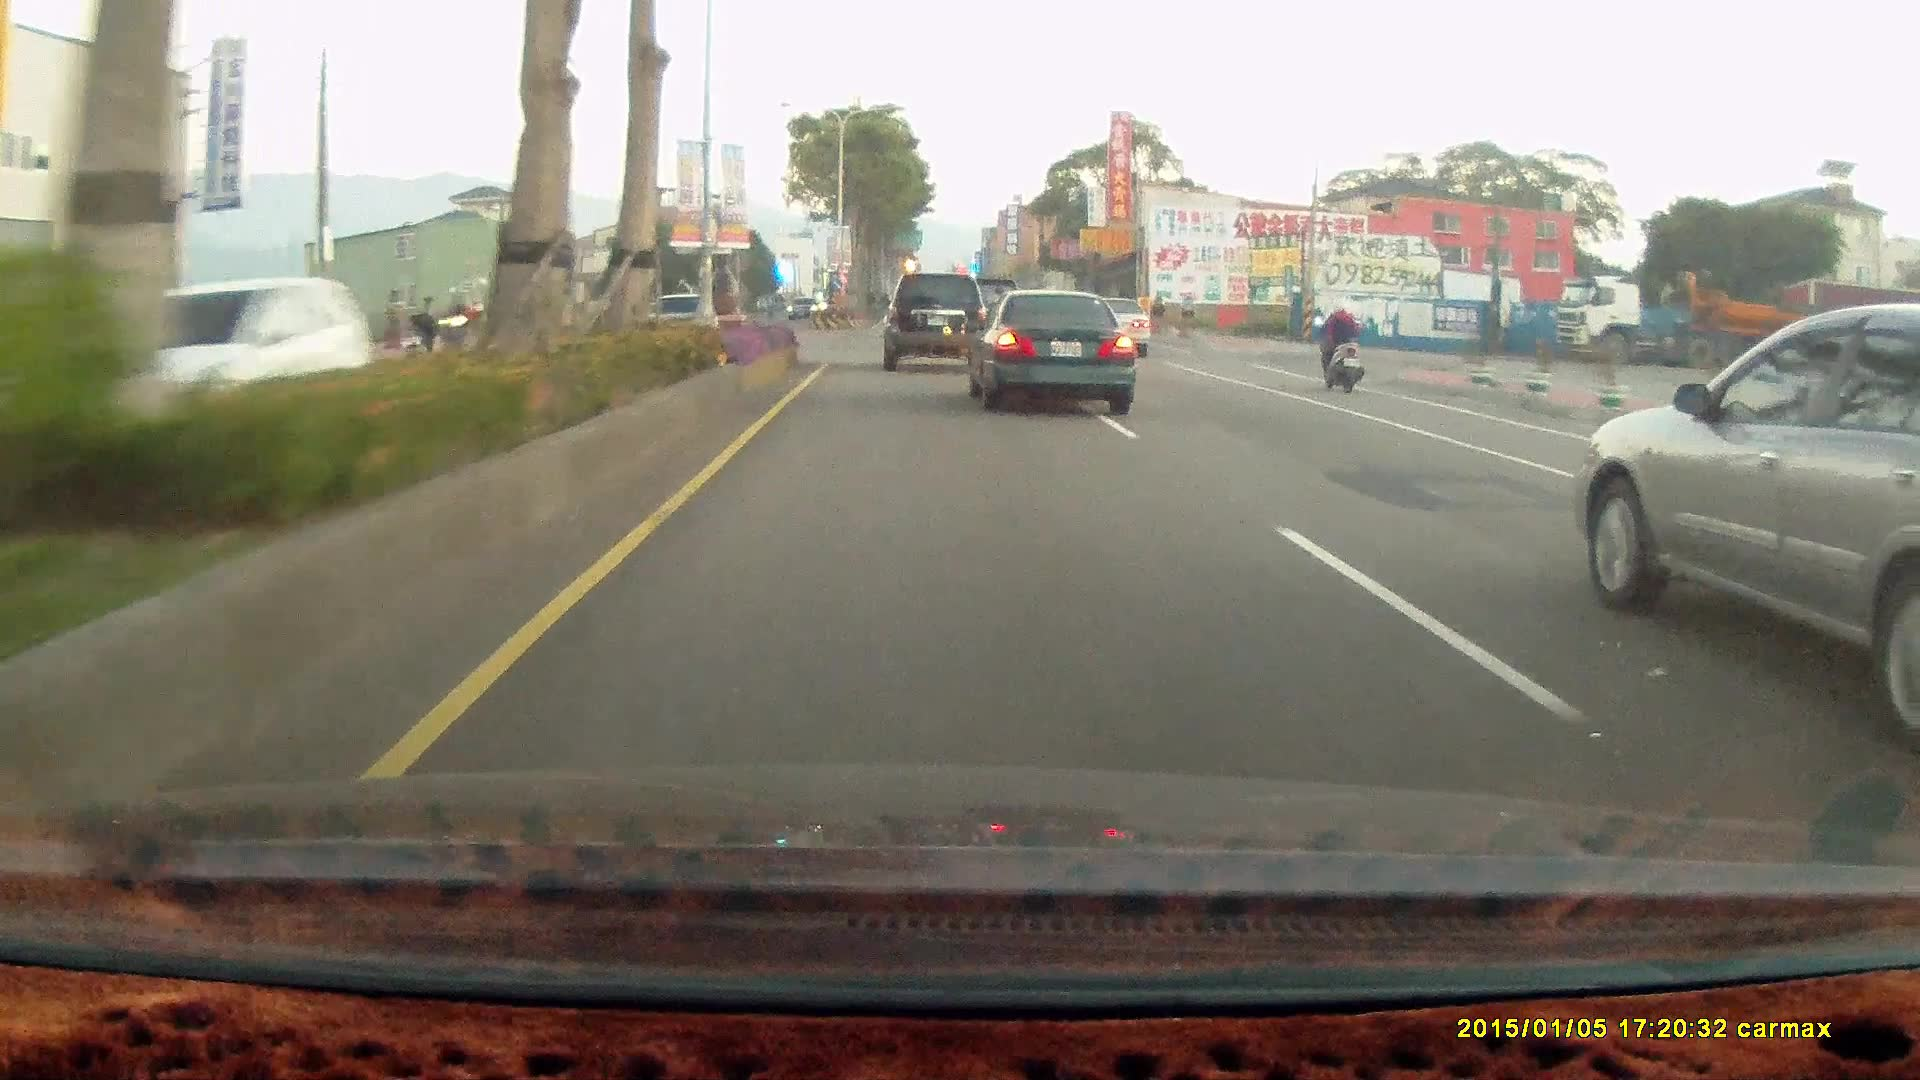pedestrian: (406, 309, 439, 356)
rider: (1308, 291, 1373, 398), (1310, 292, 1366, 388), (434, 294, 479, 365)
vehicle: (1575, 301, 1920, 740), (108, 275, 372, 454), (145, 275, 360, 453), (1552, 270, 1920, 370), (960, 288, 1132, 413), (971, 292, 1139, 413), (881, 271, 992, 372), (880, 272, 986, 373), (1076, 296, 1154, 361), (1075, 294, 1152, 358), (637, 291, 720, 350), (785, 296, 819, 319)
